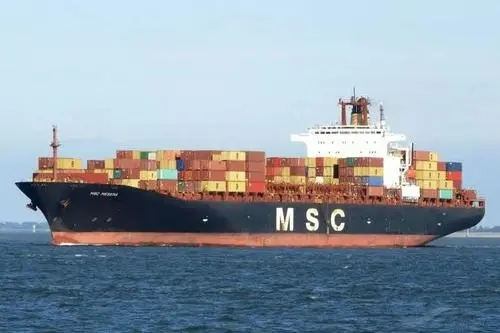Cargoship: (6, 91, 495, 245)
